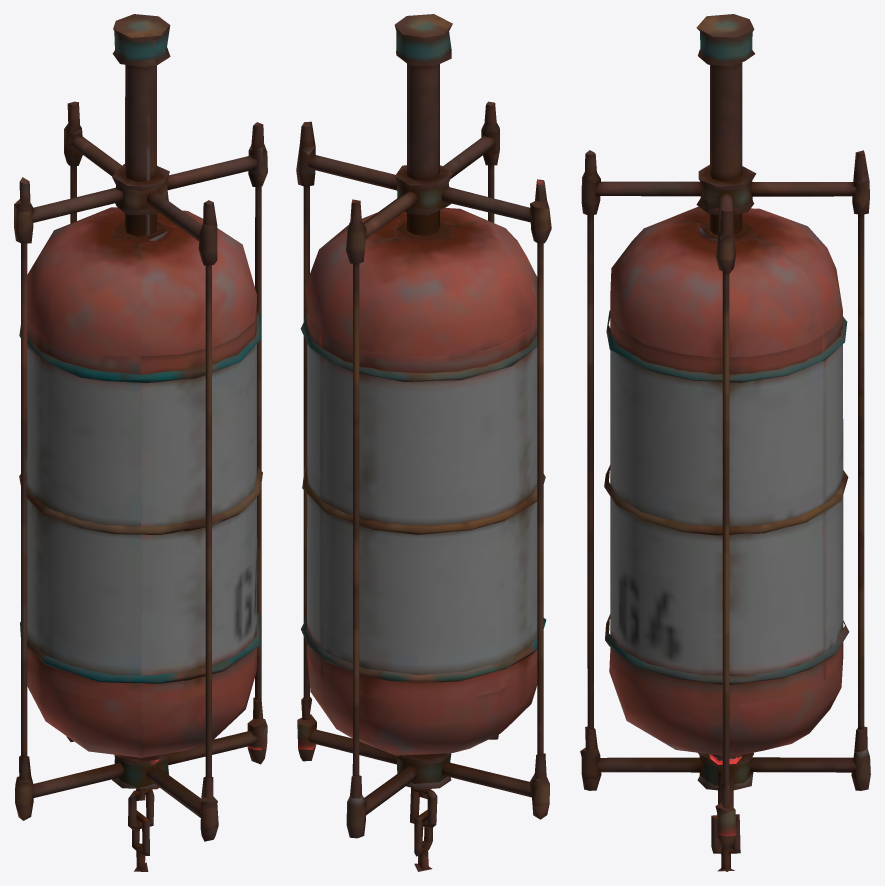
File: SM_Buoy01.gltf
The picture shows the model from 3 angles, left to right: view 1: azimuth 30°, elevation 25°; view 2: azimuth 150°, elevation 25°; view 3: azimuth 270°, elevation 25°; orthographic projection.
Parts seen in each view (by area): view 1: SM_Buoy01; view 2: SM_Buoy01; view 3: SM_Buoy01.
Part boxes in pixels (<box>): SM_Buoy01: <box>14,14,267,871</box>; SM_Buoy01: <box>296,14,551,871</box>; SM_Buoy01: <box>580,14,870,871</box>.
Bounding box in the file's own units: 3.72 × 11.9 × 3.71.
1 material, 1 textured.
